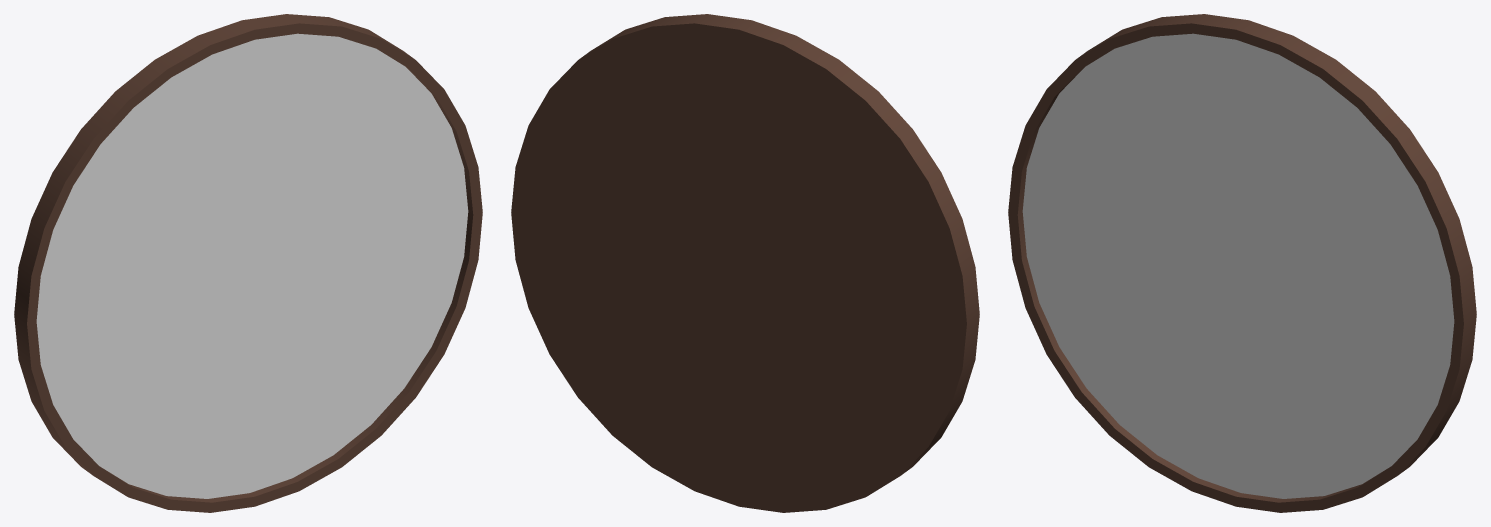
The model's file is RoundMirror.fbx.
3 renders of one model, left to right at view 1: azimuth 30°, elevation 25°; view 2: azimuth 150°, elevation 25°; view 3: azimuth 330°, elevation 25°, orthographic.
Parts seen in each view (by area): view 1: Round Mirror; view 2: Round Mirror; view 3: Round Mirror.
Boxes of the visible parts, x1,y1,x2,y2 form: Round Mirror: (14, 14, 482, 512); Round Mirror: (511, 14, 979, 512); Round Mirror: (1008, 14, 1476, 512).
Size of the model in its own units: 98.79 by 98.79 by 4.83.
